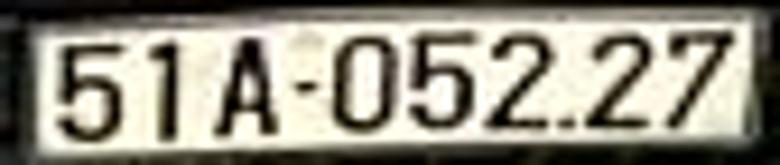-: (296, 82, 316, 91)
.: (560, 117, 573, 128)
0: (332, 35, 394, 129)
1: (151, 42, 177, 142)
2: (491, 33, 549, 128), (588, 33, 645, 127)
5: (61, 44, 121, 143), (414, 32, 473, 129)
7: (667, 27, 735, 126)
A: (212, 35, 279, 134)
